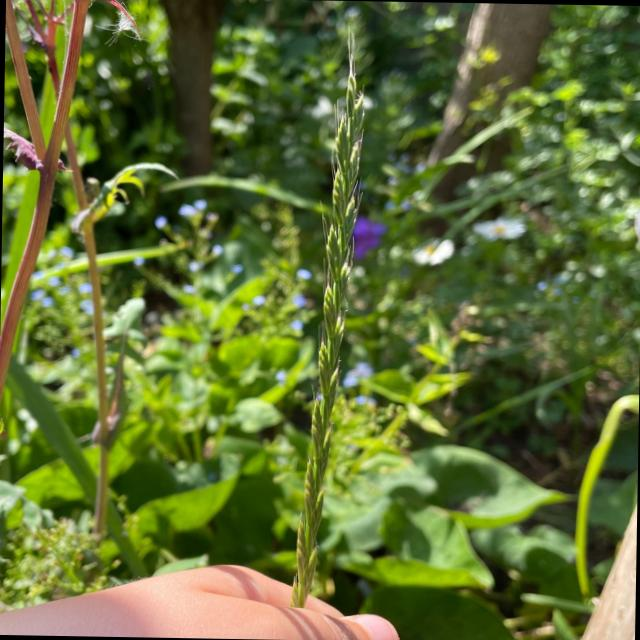Lolium: (286, 22, 374, 610)
